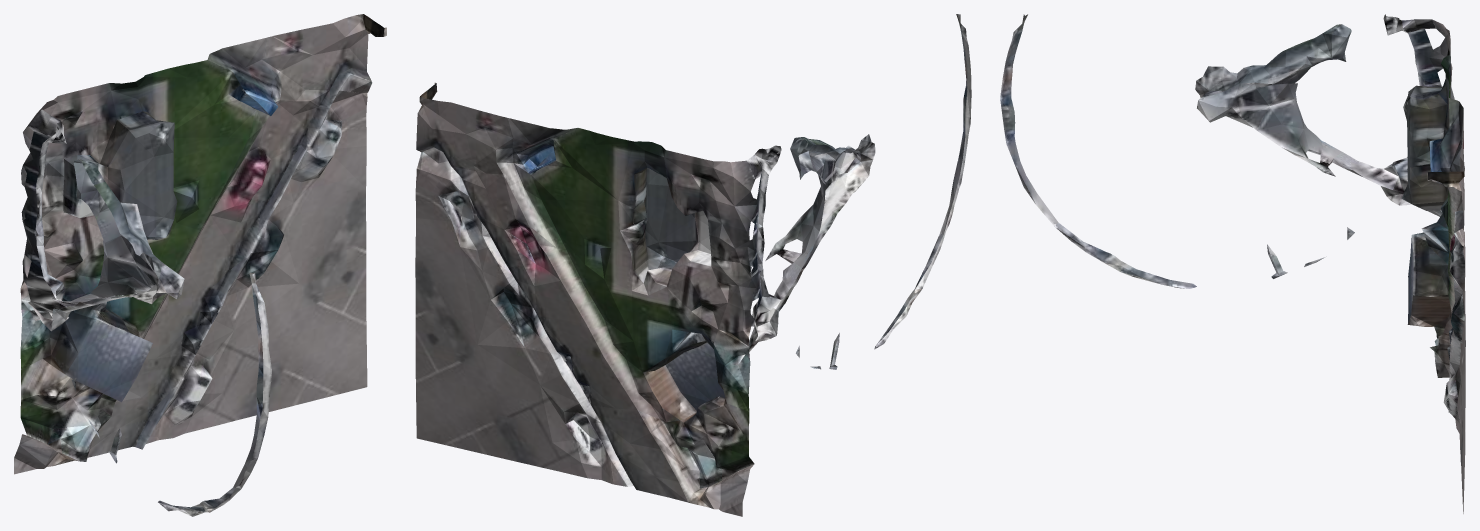
File: Tile_+038_+019_L19_000200.obj
3 renders of one model, left to right at view 1: azimuth 30°, elevation 25°; view 2: azimuth 150°, elevation 25°; view 3: azimuth 270°, elevation 25°, orthographic. The views are drawn at different scales.
Size of the model in its own units: 31.5 by 31.75 by 38.97.
1 material, 1 textured.
